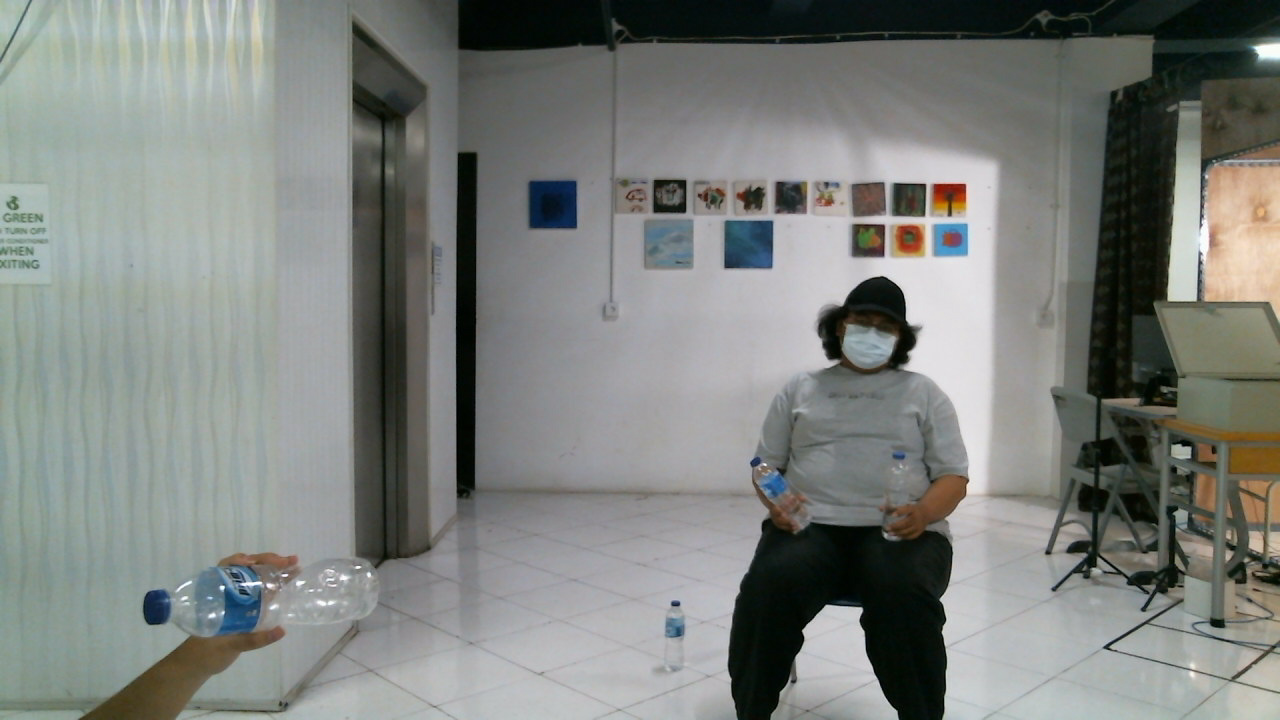Bottle: (143, 559, 380, 628), (749, 458, 815, 534)
